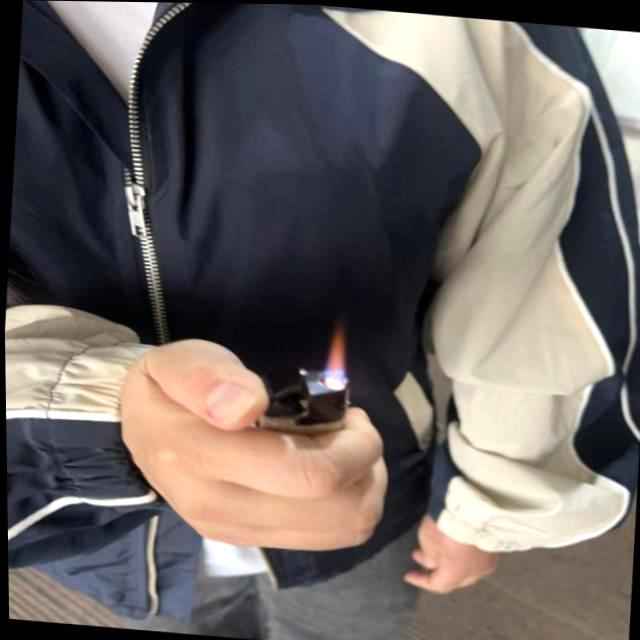fire: (318, 318, 346, 384)
